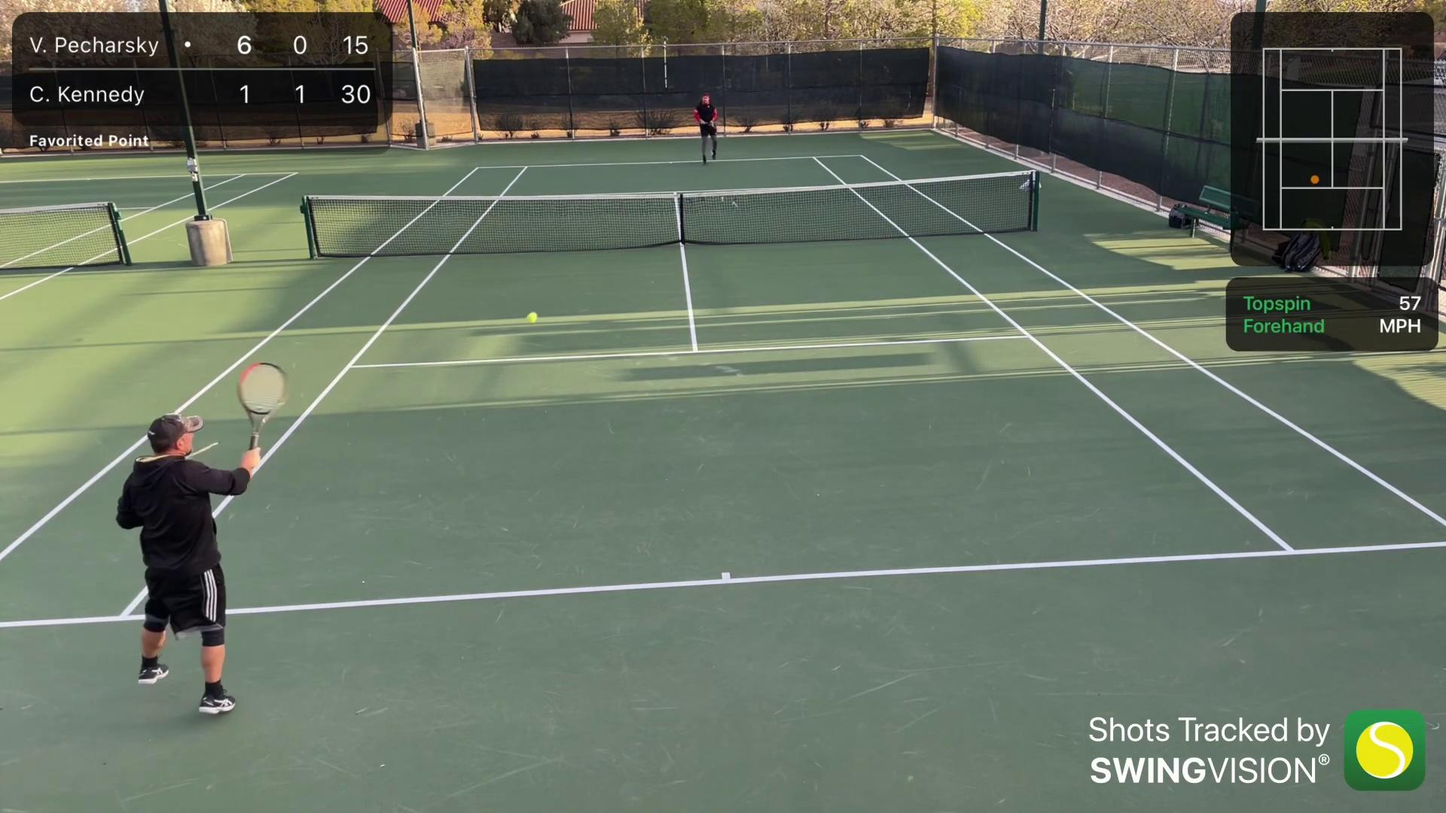ball: (525, 311, 541, 324)
